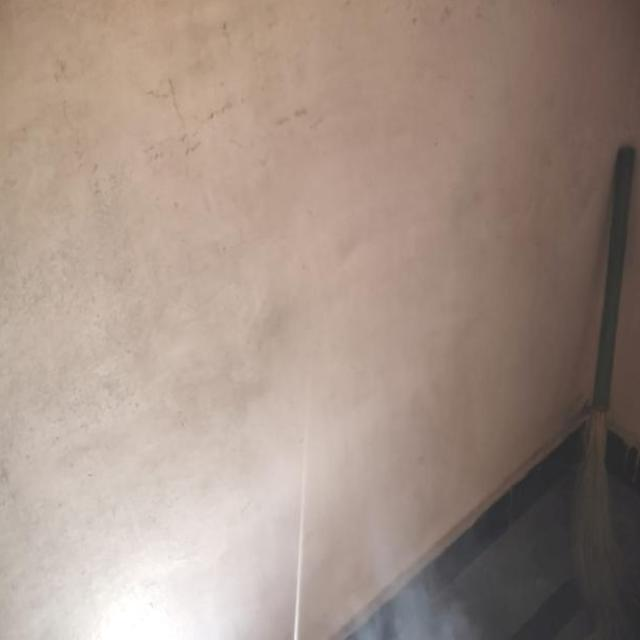fire: (319, 494, 502, 640)
